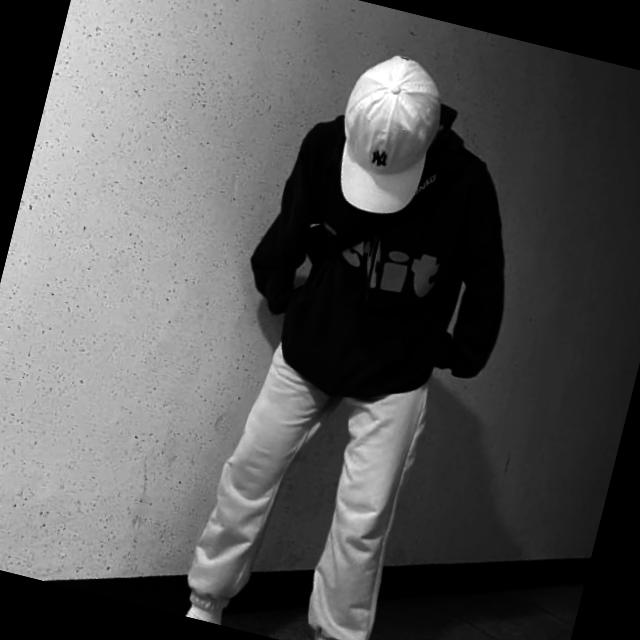hoodies: (227, 70, 552, 433)
trainingpants: (181, 320, 445, 640)
